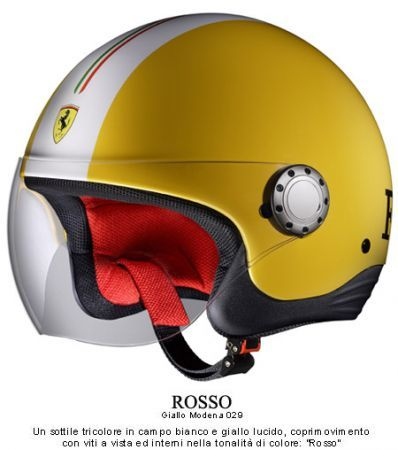helmet: (25, 4, 392, 344)
